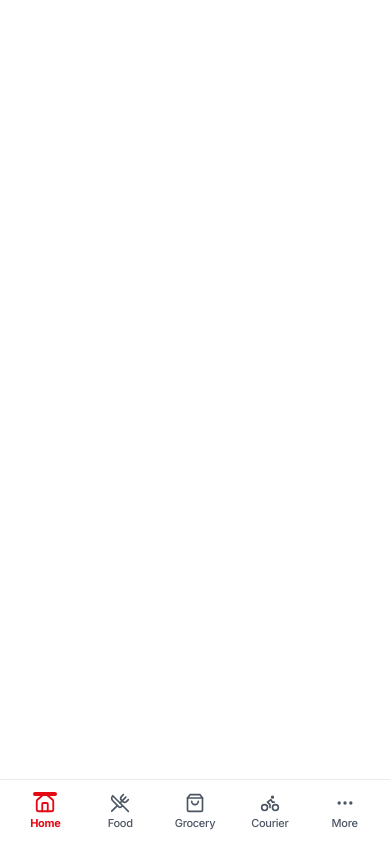
Test: Public Mobile Navigation & Header › BottomNav Component › opens the More sheet when More button is clicked, showing About, Services, Contact
Note: Click More
What coordinates should you click on to do the following:
click the button with aria-label "more navigation options"
I would click on:
 (345, 812)
Its box is [307,788,382,836].
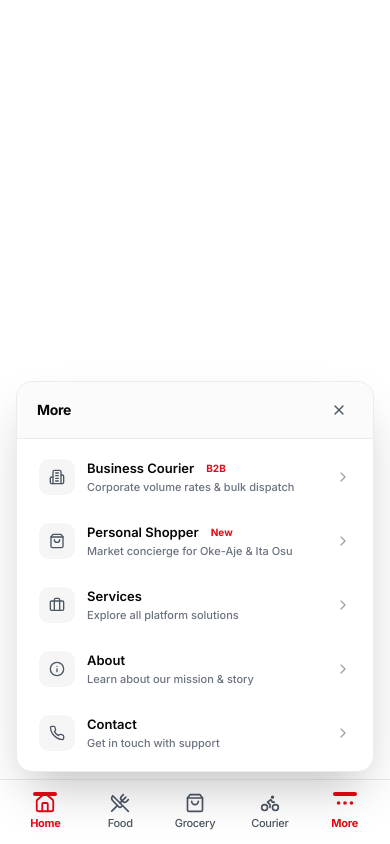
Now the dialog named "More navigation options" is shown, box [0,381,389,780]
